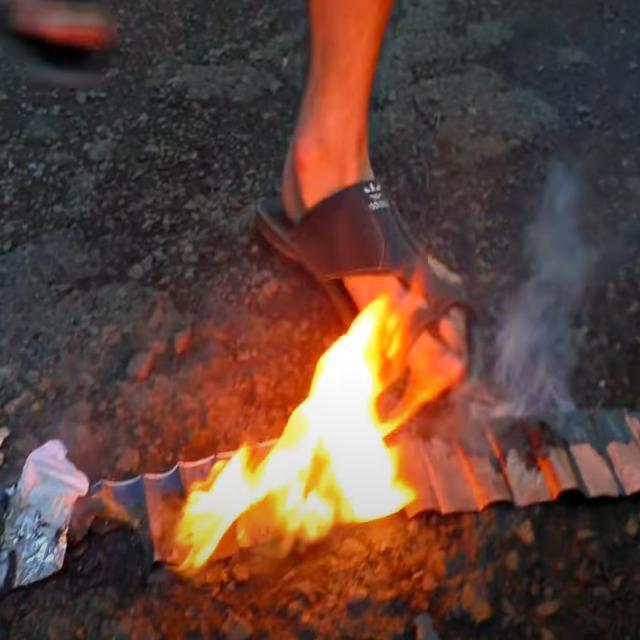Fire: (166, 281, 429, 570)
Smoke: (488, 170, 608, 426)
